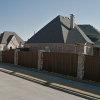Chimney: (63, 10, 77, 32)
